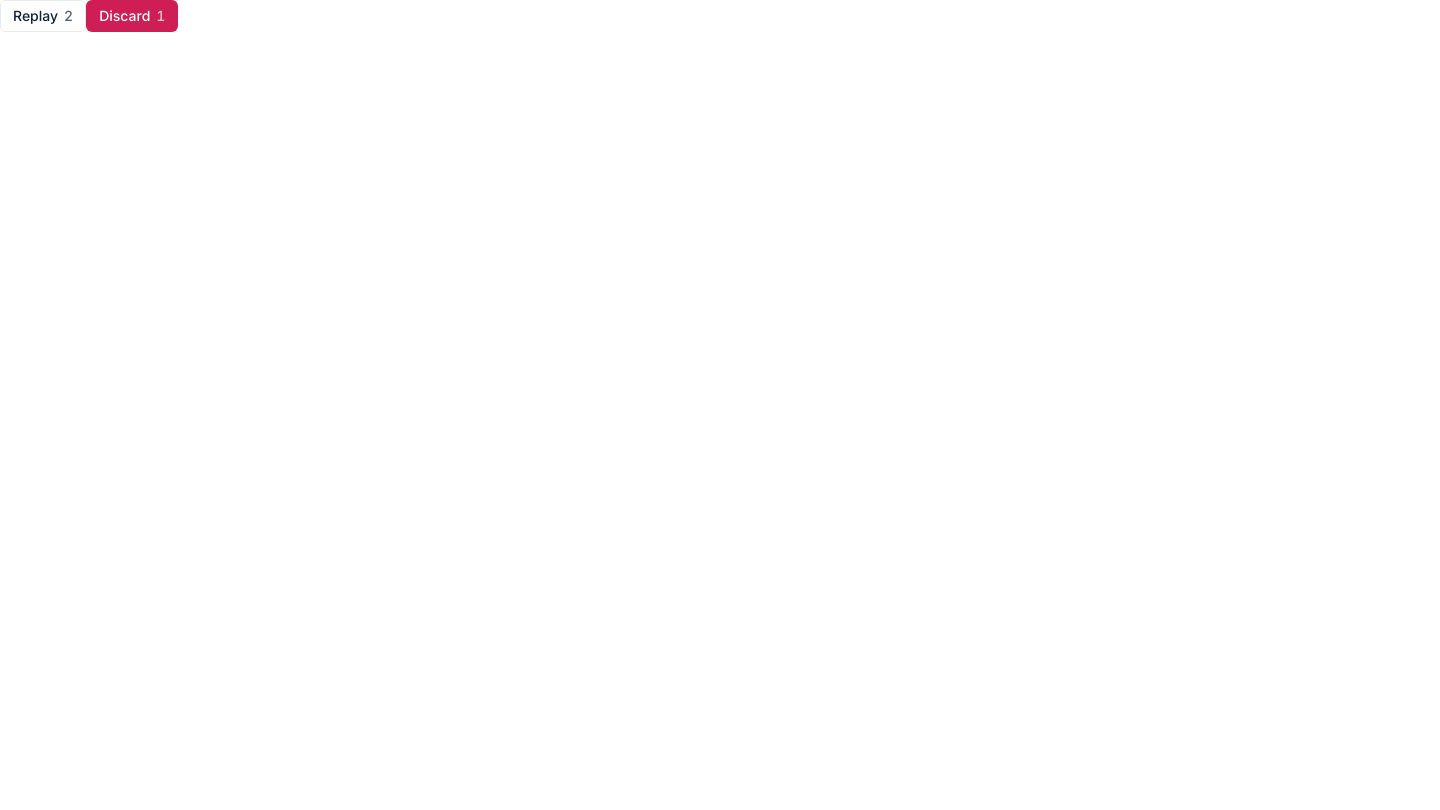
Test: DataTableActionsBar › keeps the confirmation open, buttons disabled, until the request settles
The image size is (1440, 810).
Later steps or results of the test are not shown.
Step 1. Click the button "Discard 1" → (132, 16), box [86,0,178,32]
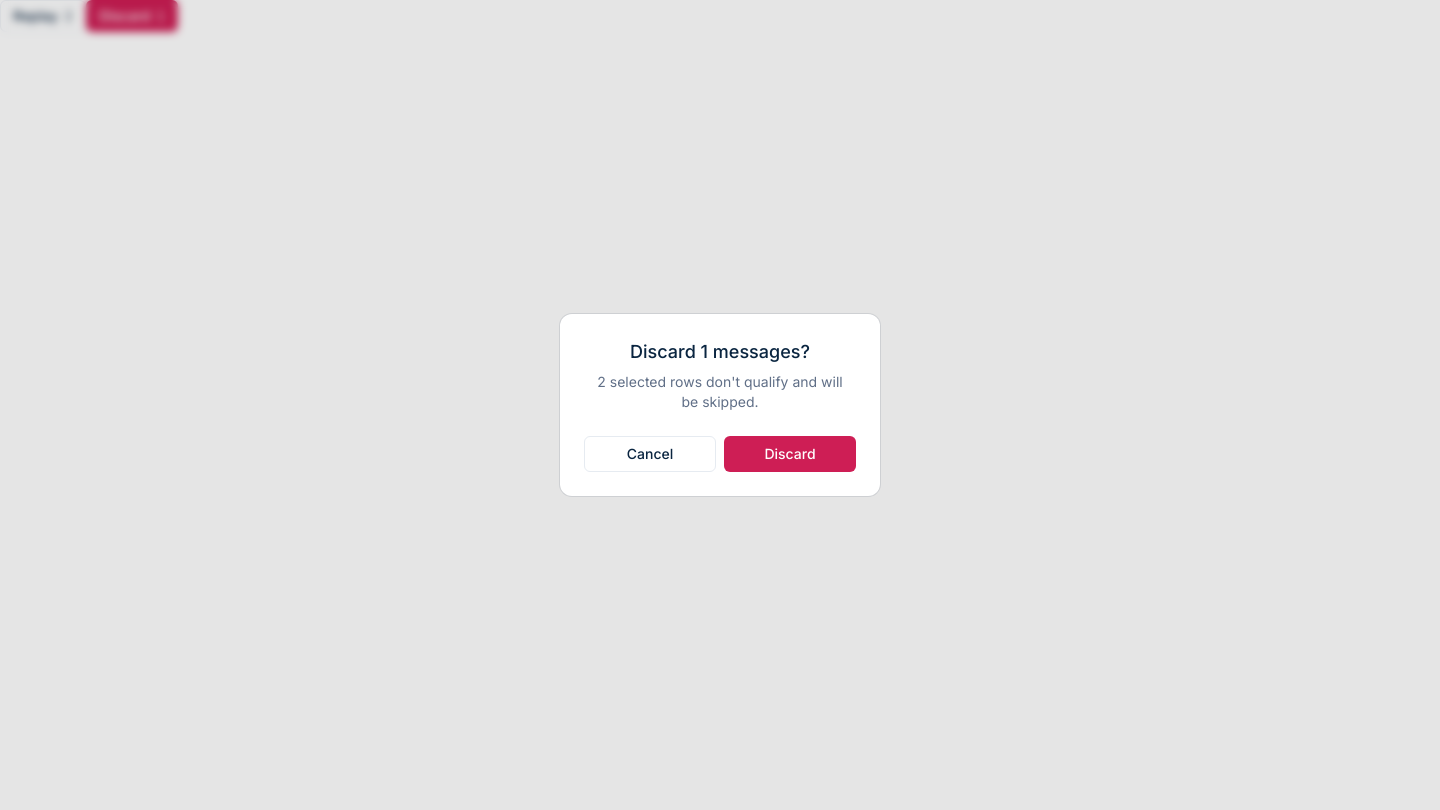
Step 2. Click the button "Discard" → (790, 454), box [724,436,856,472]
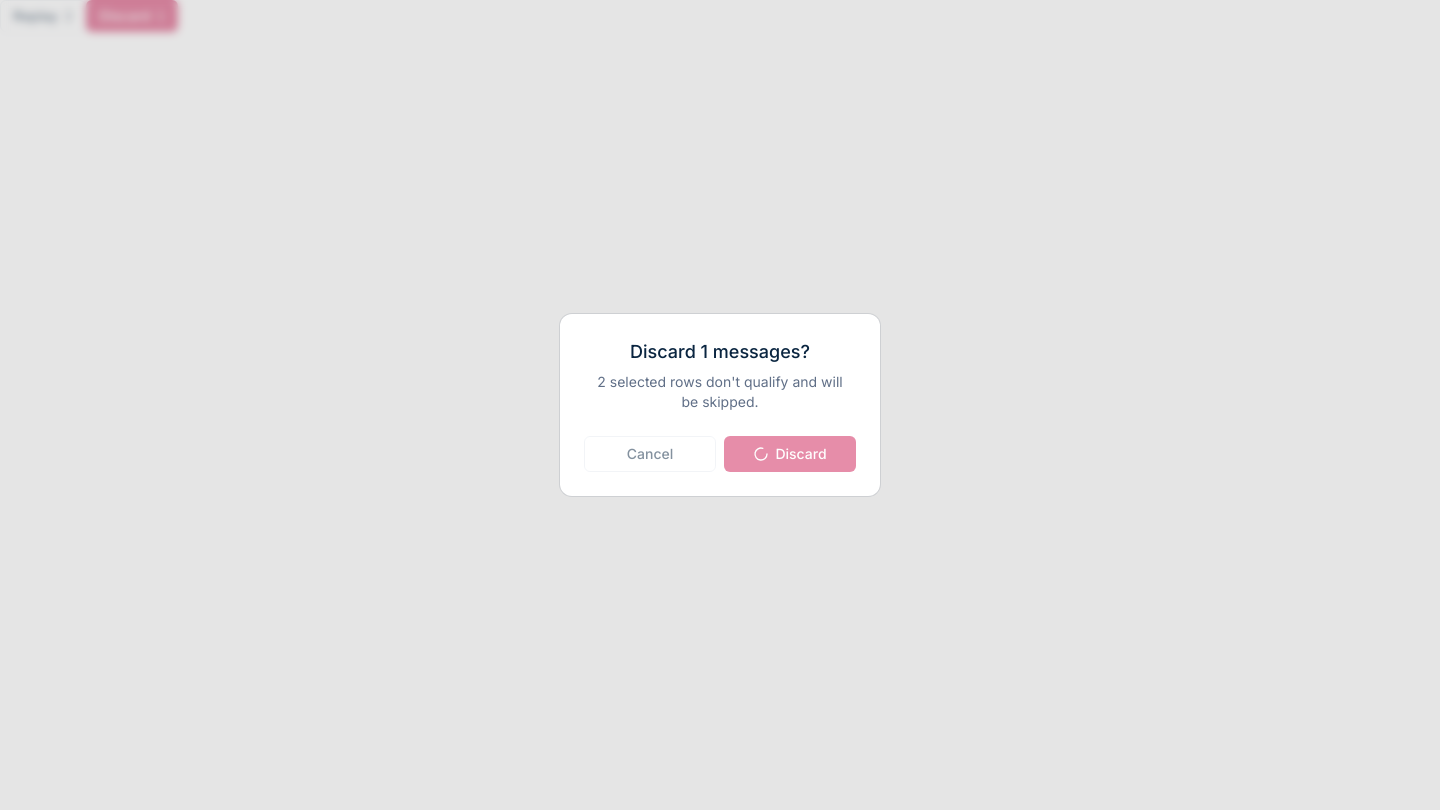
Expected: the dialog is shown
Expected: the button "Discard" is disabled, [724,436,856,472]
Expected: the button "Cancel" is disabled, [584,436,716,472]
Step 3. Press Escape in the dialog, box [560,314,880,496]
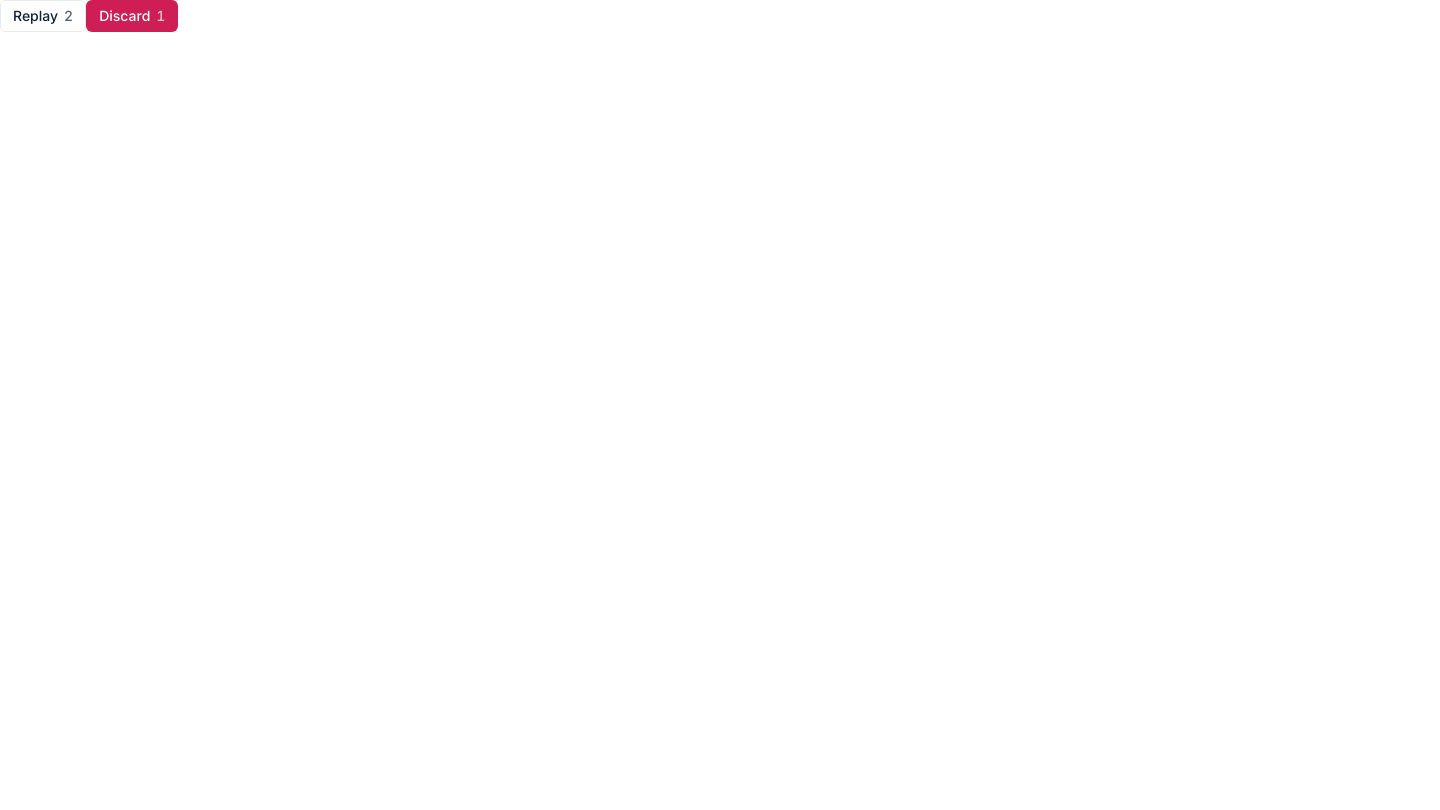
Expected: the dialog is gone
